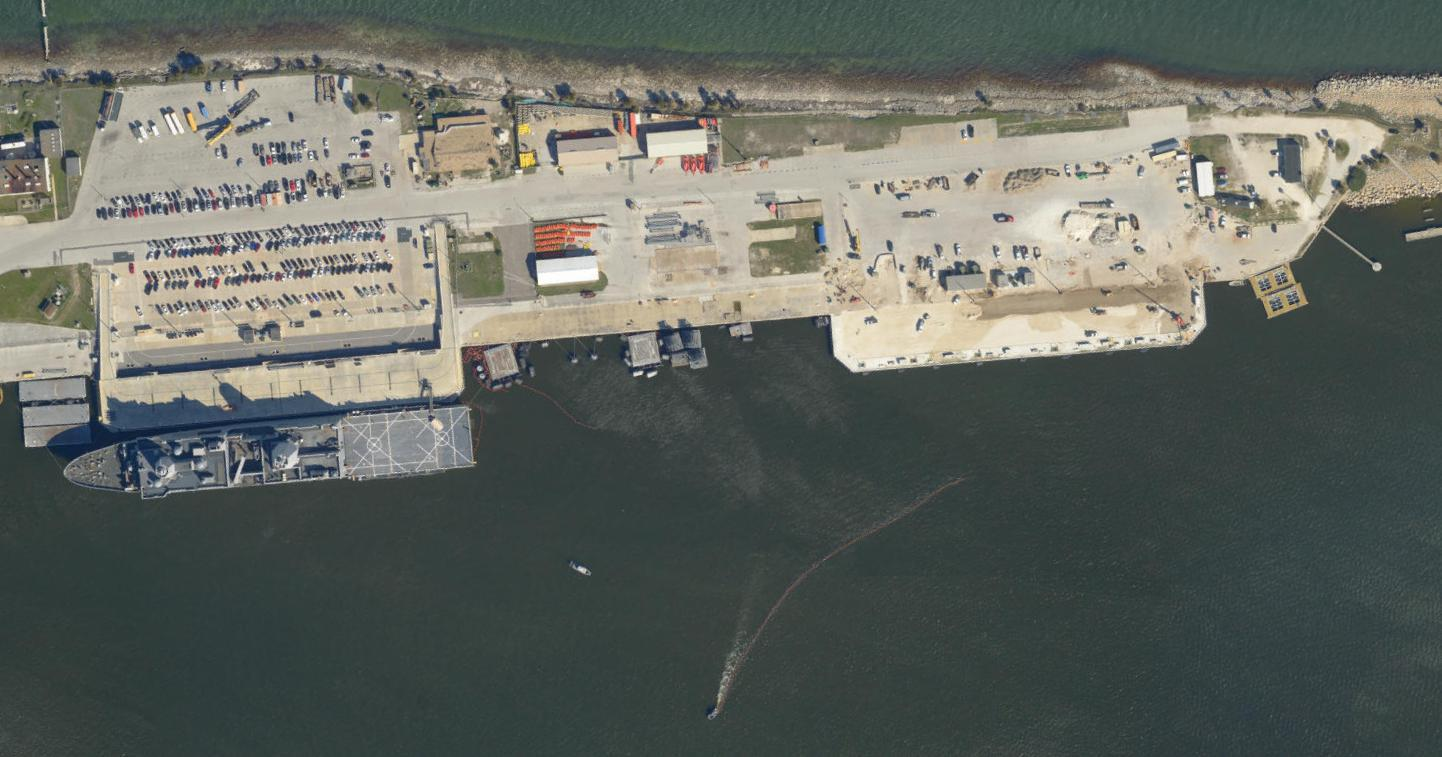amphiby: (62, 397, 483, 504)
